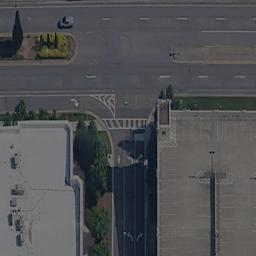Car: (60, 14, 73, 29)
Chevron: (88, 92, 121, 117)
Crosswalk: (96, 119, 154, 131)
Double Solid Yellow Line: (120, 132, 128, 255)
Left Turn Arrow: (124, 230, 134, 244), (123, 153, 134, 164)
Right Turn Arrow: (67, 97, 80, 109), (136, 230, 144, 244), (136, 152, 144, 166)
Solid White Line: (1, 89, 103, 97), (131, 132, 136, 253), (199, 28, 256, 36)
Stop Line: (133, 132, 145, 143)
White Dashed Line: (80, 72, 250, 86), (98, 15, 256, 23)
